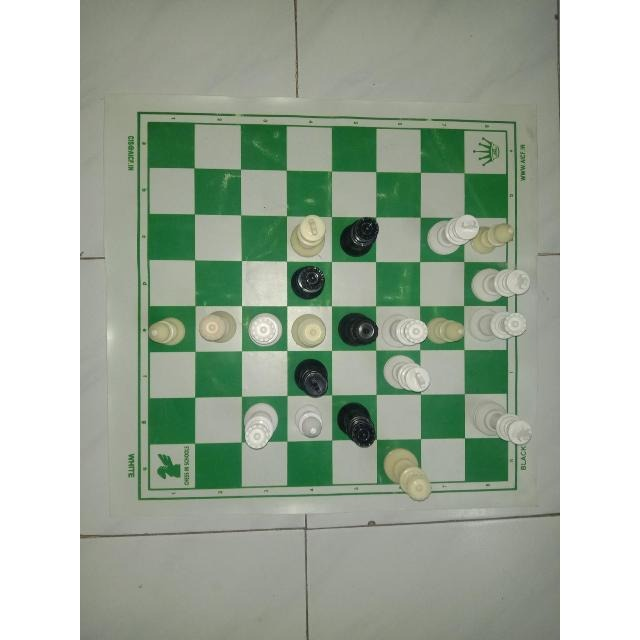black-king: (290, 355, 330, 399)
black-queen: (333, 400, 379, 452), (339, 215, 382, 257), (287, 262, 327, 302), (339, 308, 377, 348)
white-bishop: (473, 218, 521, 260), (145, 310, 189, 343), (425, 314, 467, 348), (294, 402, 327, 440)
white-king: (472, 398, 534, 448), (424, 210, 481, 257), (470, 264, 532, 302), (381, 351, 433, 396), (288, 211, 327, 259)
white-queen: (383, 447, 433, 503), (468, 307, 533, 347), (237, 400, 281, 456), (287, 307, 330, 348), (382, 308, 428, 346), (245, 310, 286, 352), (195, 307, 239, 346)
